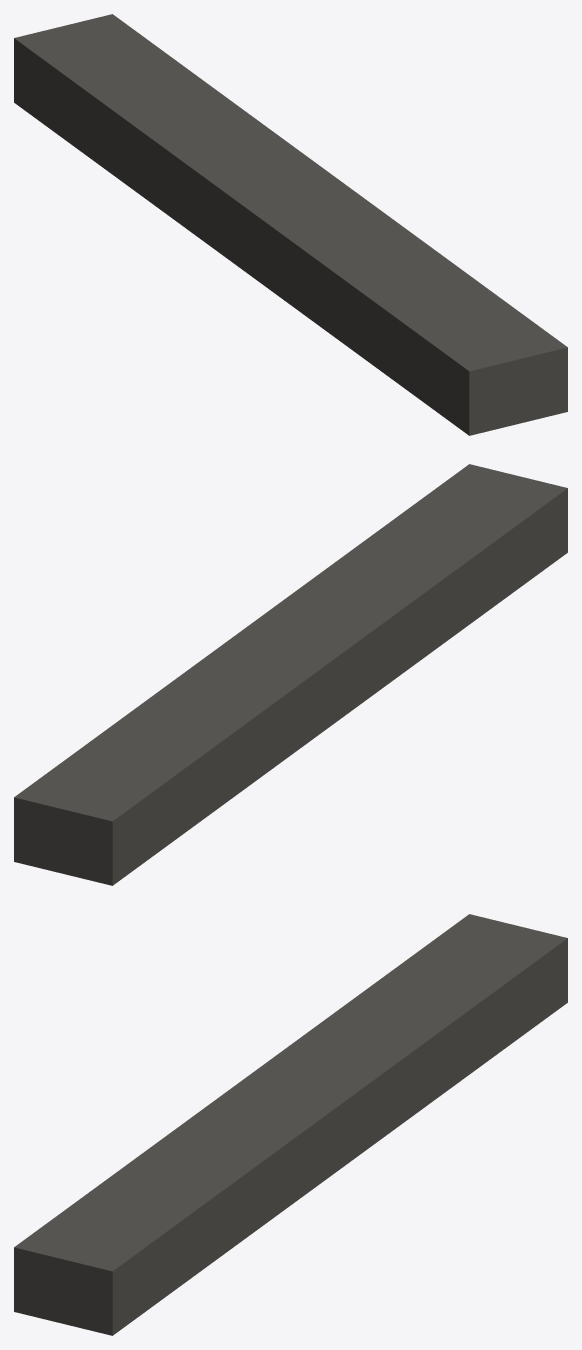
File: bricks.glb
3 renders of one model, top to bottom at view 1: azimuth 30°, elevation 25°; view 2: azimuth 150°, elevation 25°; view 3: azimuth 330°, elevation 25°, orthographic.
Parts seen in each view (by area): view 1: bricks; view 2: bricks; view 3: bricks.
Part boxes in pixels (x1=…): bricks: x1=14, y1=14, x2=567, y2=435; bricks: x1=14, y1=464, x2=567, y2=885; bricks: x1=14, y1=914, x2=567, y2=1335.
Size of the model in its own units: 1.5 by 0.94 by 12.03.
1 material, 1 textured.
